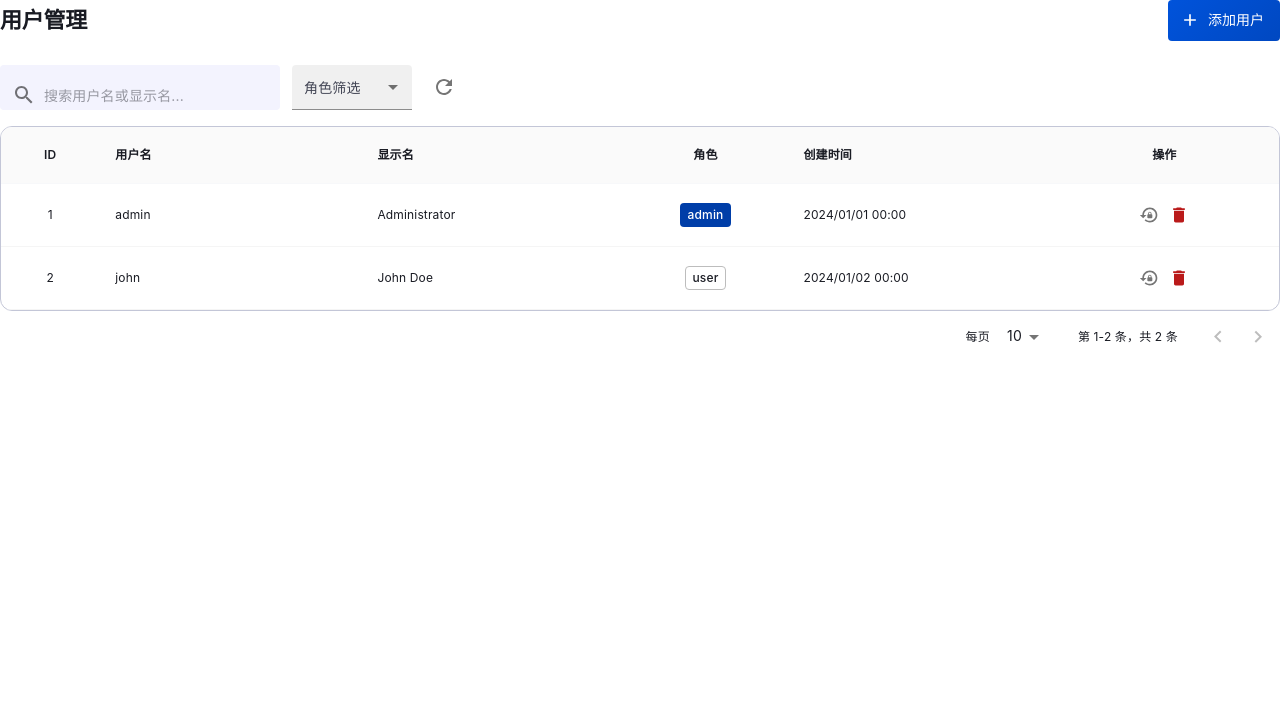
AdminUsers › opens delete confirmation dialog
Expected: the text "john" is shown, x1=99 y1=246 x2=361 y2=309
Step 1. Click the button named "删除用户John Doe" → (1179, 278), box x1=1164 y1=263 x2=1194 y2=293
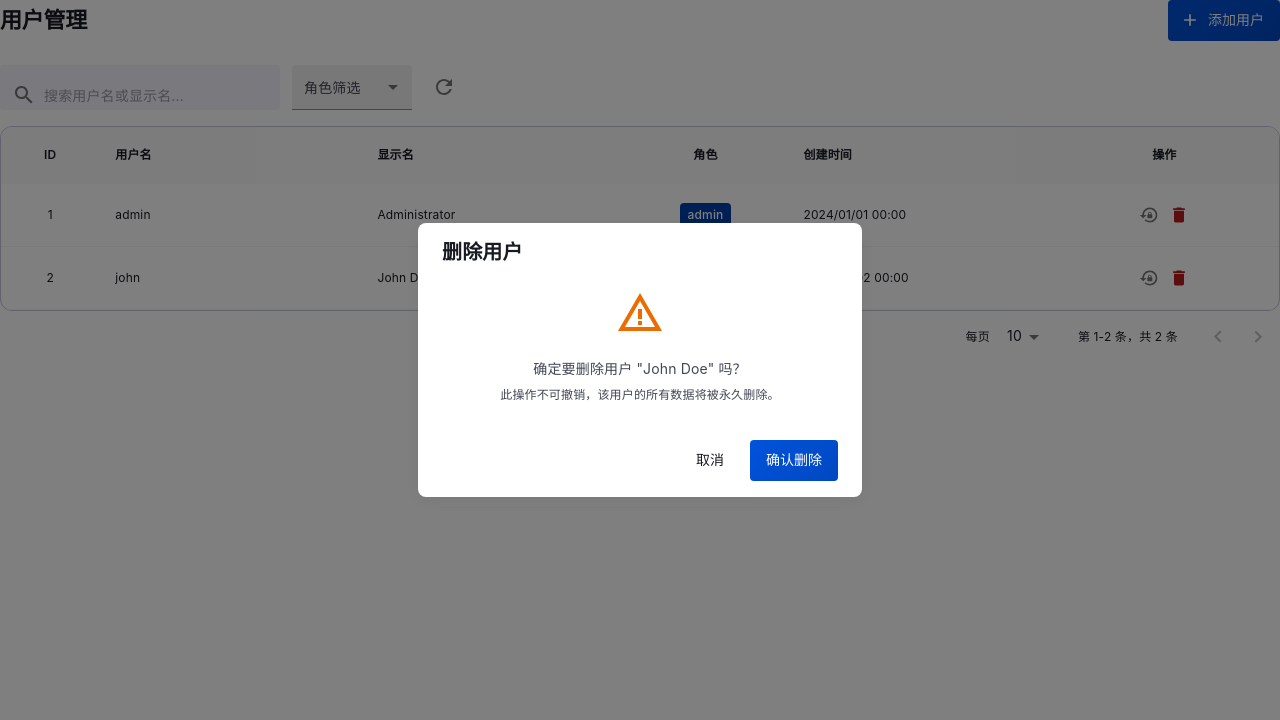
Expected: the heading "删除用户" is shown, x1=442 y1=240 x2=523 y2=264
Expected: the text "确定要删除用户 \"John Doe\" 吗？ 此操作不可撤销，该用户的所有数据将被永久删除。" is shown, x1=500 y1=360 x2=780 y2=404
